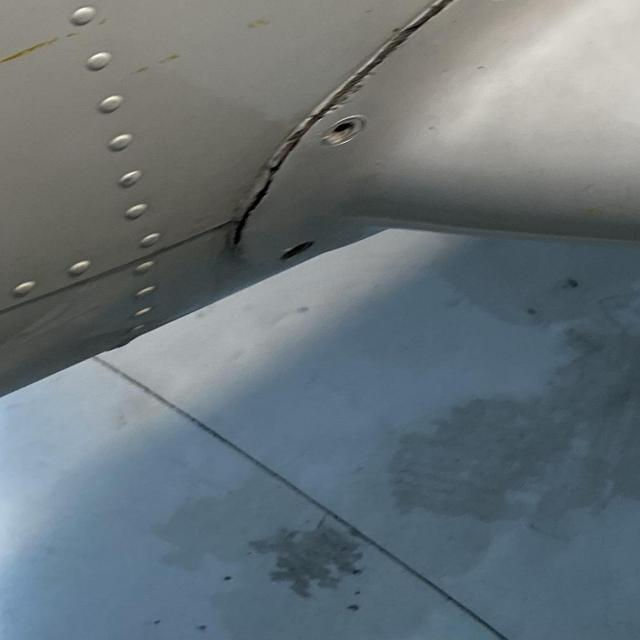Crack: (305, 0, 488, 112), (226, 113, 328, 250)
Missing-head: (323, 117, 365, 148), (279, 241, 315, 265)
